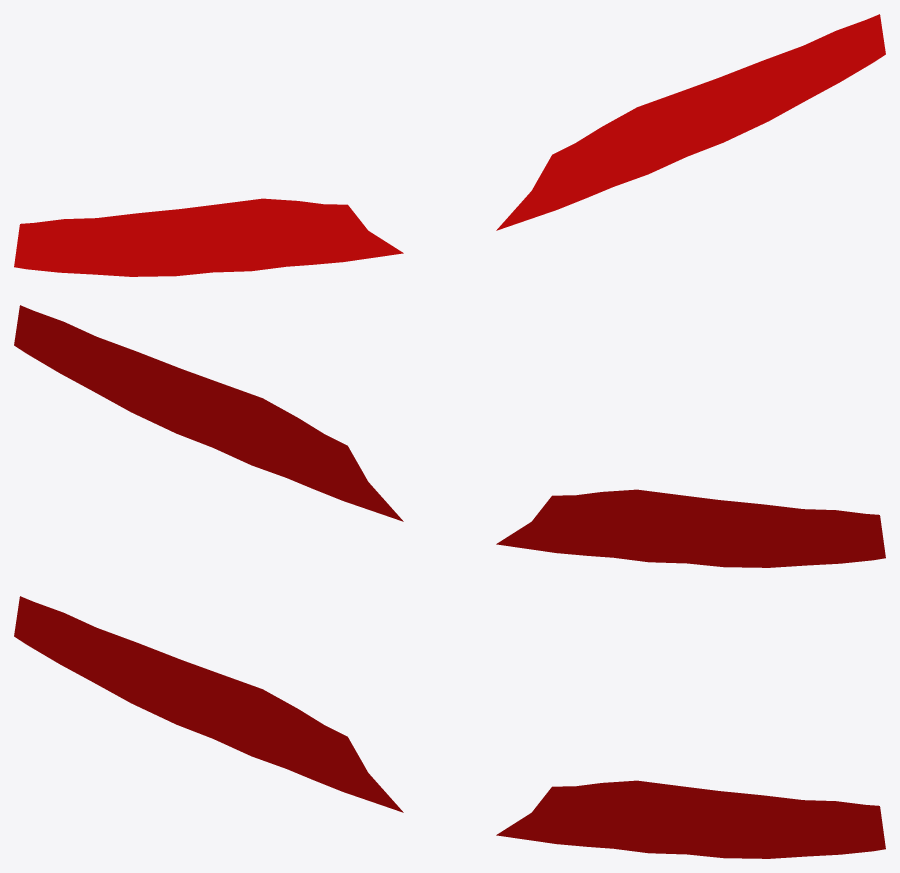
Rendered from frame29.fbx.
The picture shows the model from 3 angles, top to bottom: view 1: azimuth 30°, elevation 25°; view 2: azimuth 150°, elevation 25°; view 3: azimuth 330°, elevation 25°; orthographic projection.
Parts seen in each view (by area): view 1: MaterialLayer; view 2: MaterialLayer; view 3: MaterialLayer.
Part boxes in pixels (x1,y1,x2,y2): MaterialLayer: [14, 14, 885, 276]; MaterialLayer: [14, 305, 885, 567]; MaterialLayer: [14, 596, 885, 858].
Bounding box in the file's own units: 1151 × 155 × 0.
